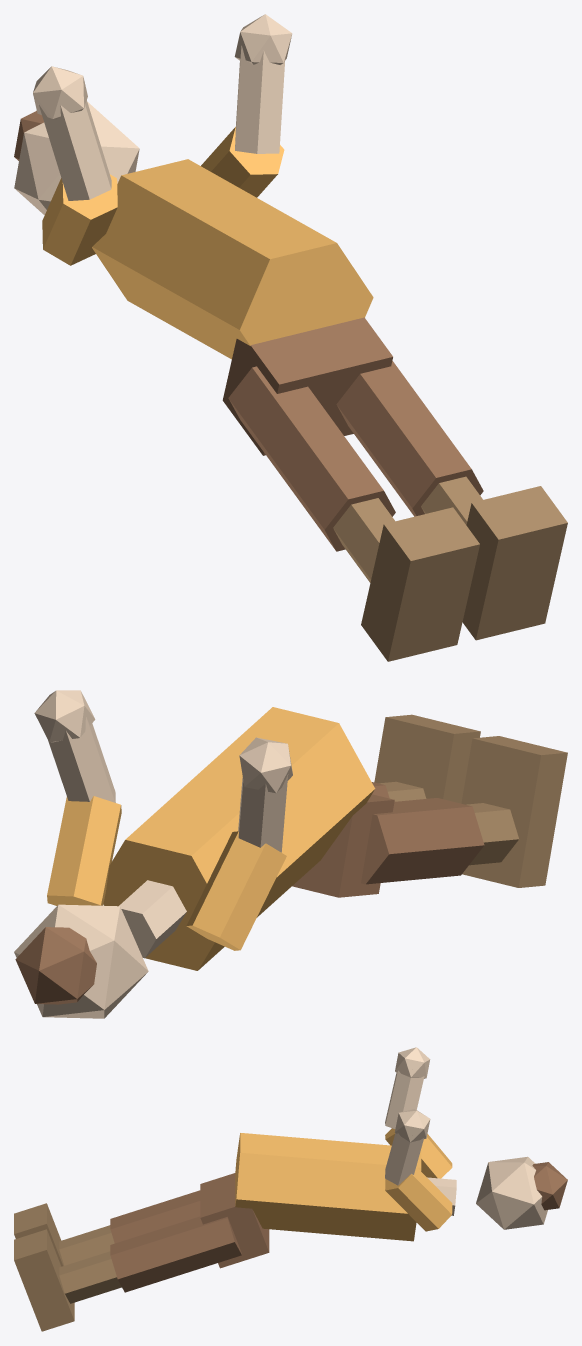
The model's file is pose_dodge_roll_33.glb.
3 renders of one model, top to bottom at view 1: azimuth 30°, elevation 25°; view 2: azimuth 150°, elevation 25°; view 3: azimuth 270°, elevation 25°, orthographic. The views are drawn at different scales.
Visible parts, largest first — view 1: pose; view 2: pose; view 3: pose.
Part boxes in pixels (left/top/right/bottom): pose: left=14, top=14, right=567, bottom=661; pose: left=14, top=690, right=567, bottom=1018; pose: left=14, top=1047, right=567, bottom=1331.
Size of the model in its own units: 0.5074 by 0.727 by 1.59.
